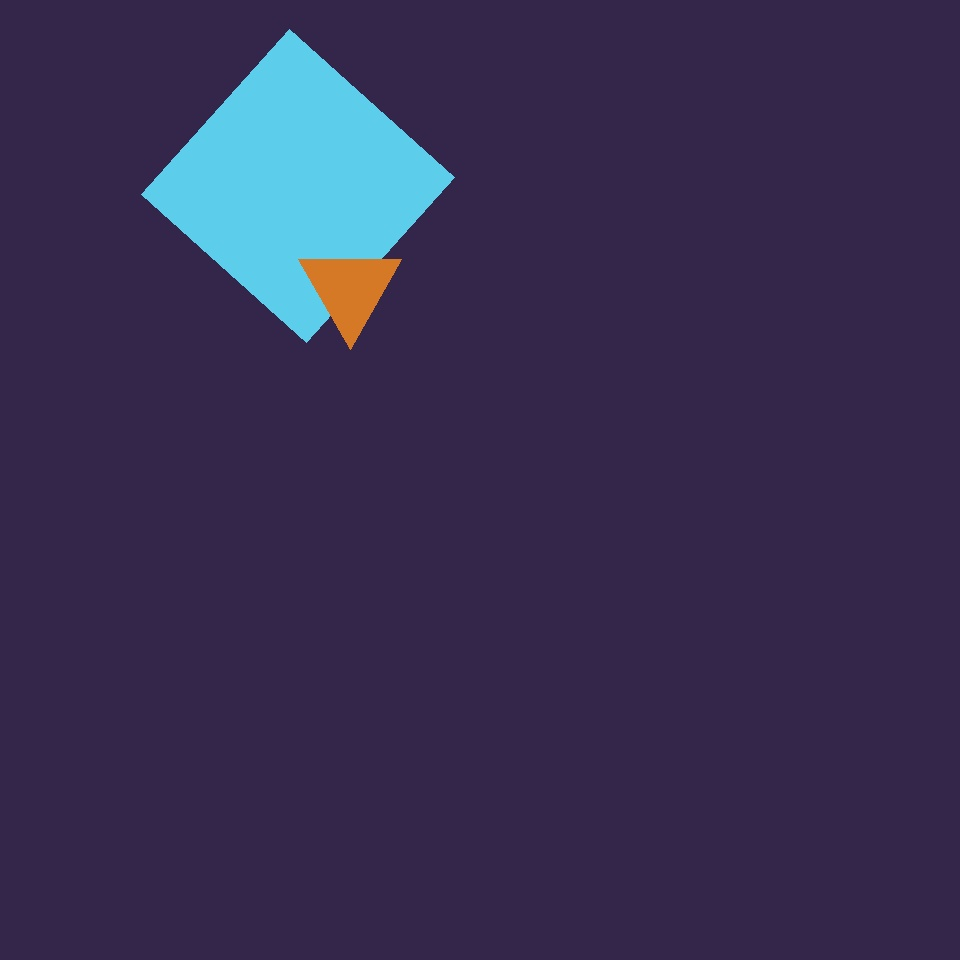circle: (298, 244, 402, 334)
square: (372, 132, 715, 475), (142, 30, 454, 343), (37, 489, 343, 794), (431, 368, 633, 569), (364, 575, 531, 742)
triangle: (275, 23, 563, 311), (214, 218, 435, 439)
